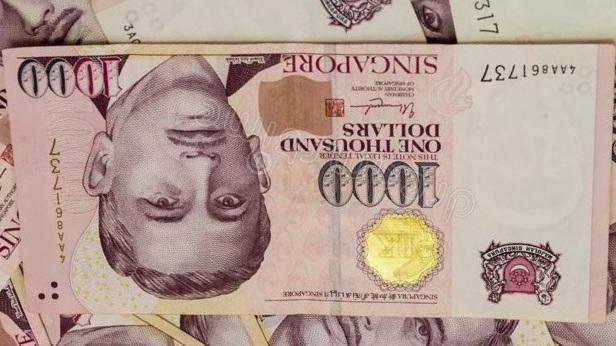1000SingaporeDollar: (19, 48, 605, 314)
